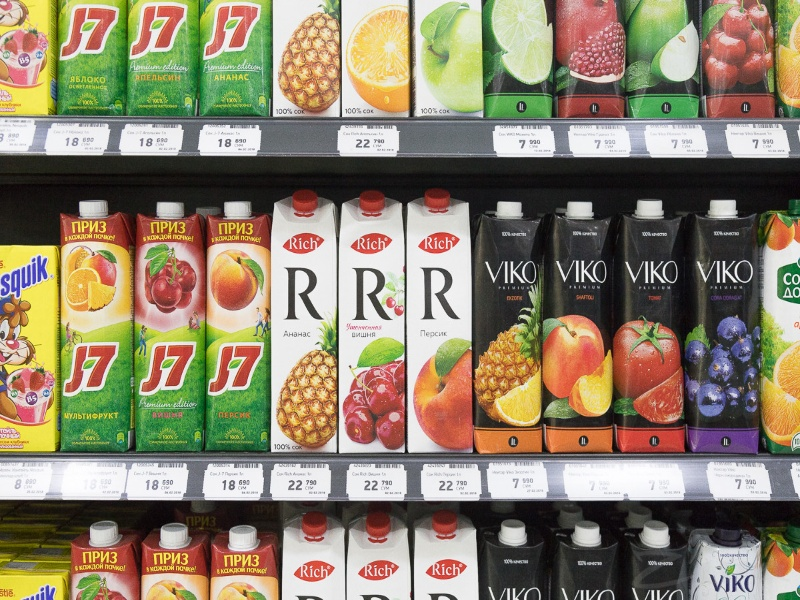juice: (685, 198, 766, 461), (54, 202, 137, 458), (544, 195, 616, 468), (133, 201, 209, 452), (471, 200, 545, 455), (404, 188, 475, 453), (335, 192, 404, 453), (614, 200, 684, 456), (269, 190, 336, 454), (204, 203, 270, 448)
